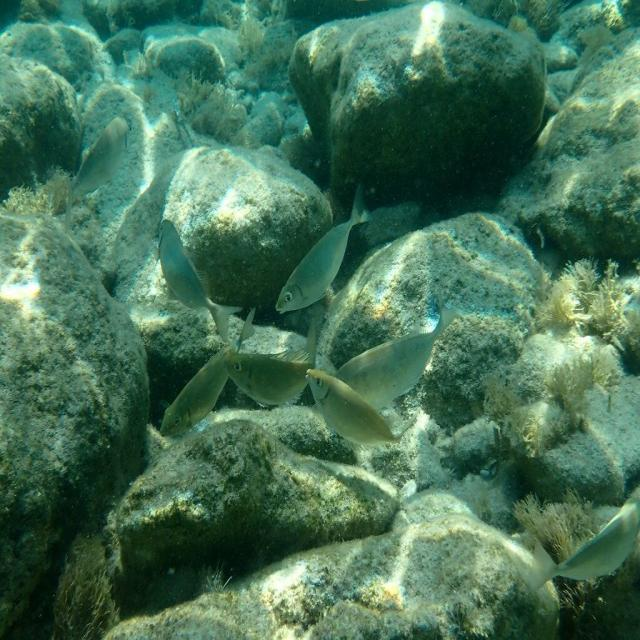Sokar Baligi: (270, 169, 378, 326), (149, 208, 241, 345)
